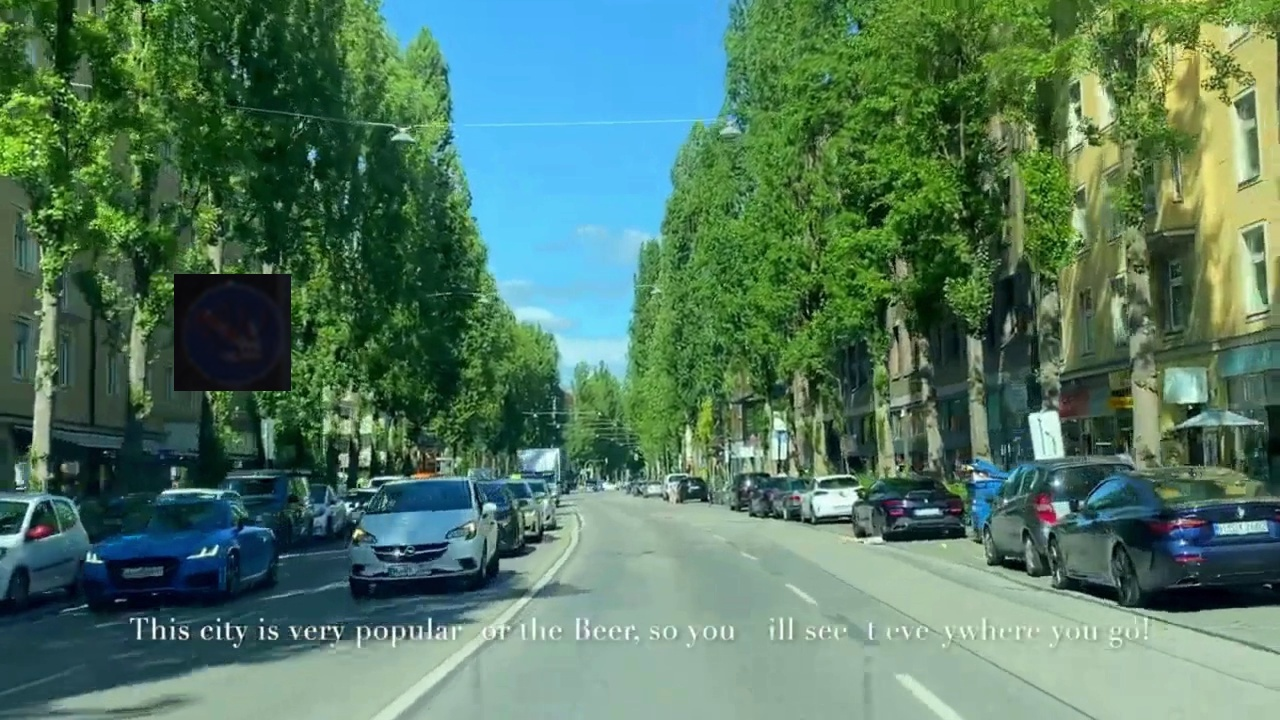Keep right: (174, 274, 291, 391)
